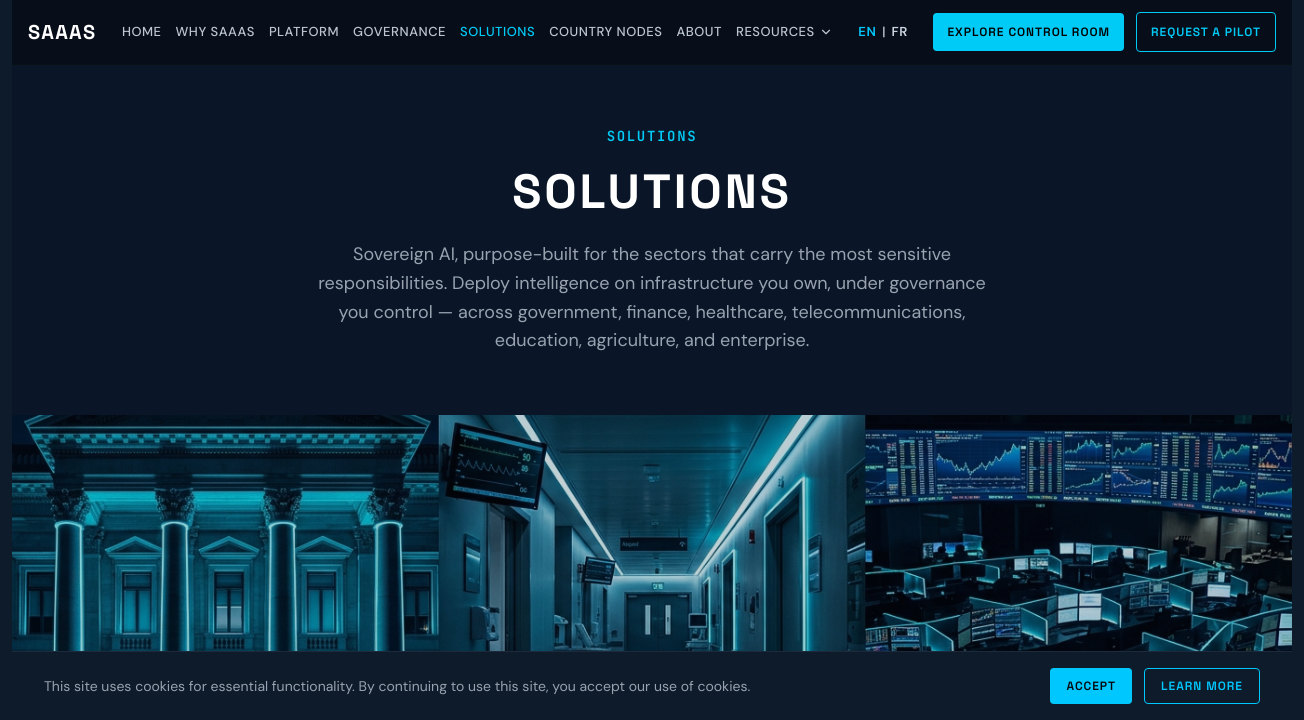
Solutions page sector cards content › labels each sector card with its sector accent label
What coordinates should you click on to do the following:
click the link "SOLUTIONS"
I would click on:
 (498, 32)
Its box is [460,22,535,42].
(page scrolled)
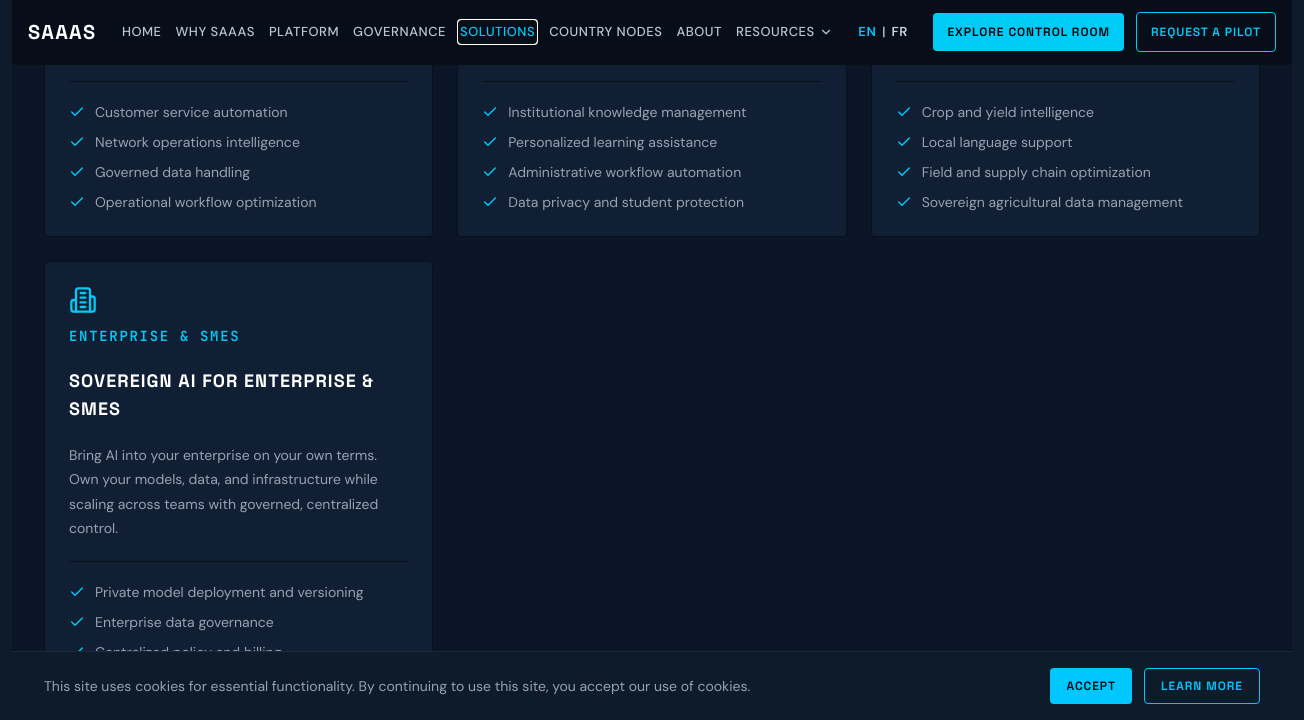
Expected: the text "Enterprise & SMEs" is shown, [69,327,240,345]
